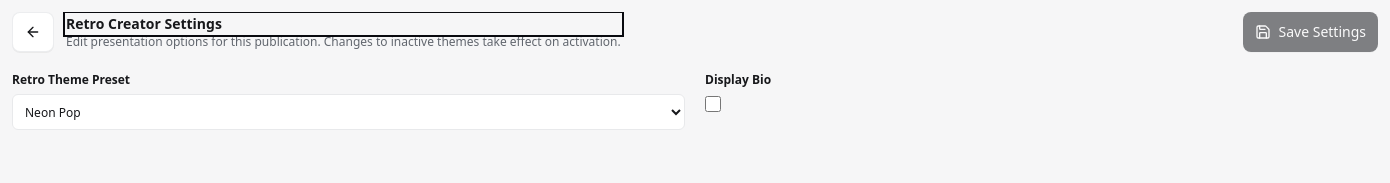
Test: ThemeSettingsEditor › handles save failures gracefully and displays an accessible alert
Select "Sunshine 70s" in the dropdown labelled "Retro Theme Preset" at (348, 112), box left=12, top=94, right=685, bottom=130
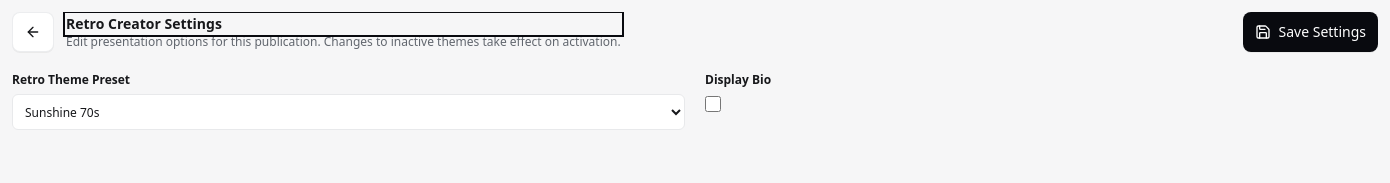
Click the button "Save Settings" at (1310, 32), box left=1242, top=12, right=1378, bottom=52
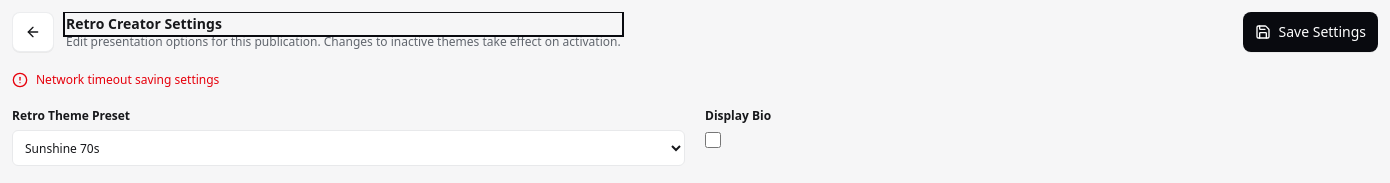
Now the message "Network timeout saving settings" is shown, box left=12, top=71, right=219, bottom=88
